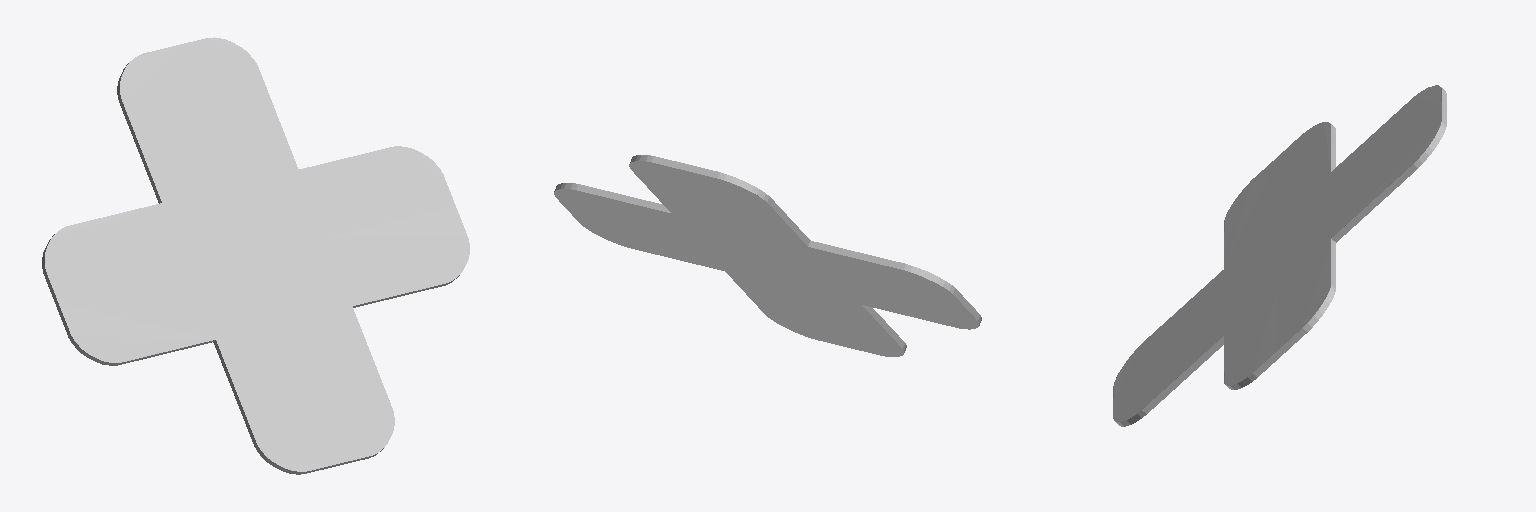
Rendered from healthSymbol.obj.
3 views of the same model, side by side, from view 1: azimuth 30°, elevation 25°; view 2: azimuth 150°, elevation 25°; view 3: azimuth 270°, elevation 25° (orthographic).
Parts seen in each view (by area): view 1: Box140; view 2: Box140; view 3: Box140.
Part boxes in pixels (bbox=[...]): Box140: bbox=[42, 37, 469, 474]; Box140: bbox=[554, 155, 981, 356]; Box140: bbox=[1113, 85, 1446, 426].
Size of the model in its own units: 0.2092 by 0.152 by 0.152.